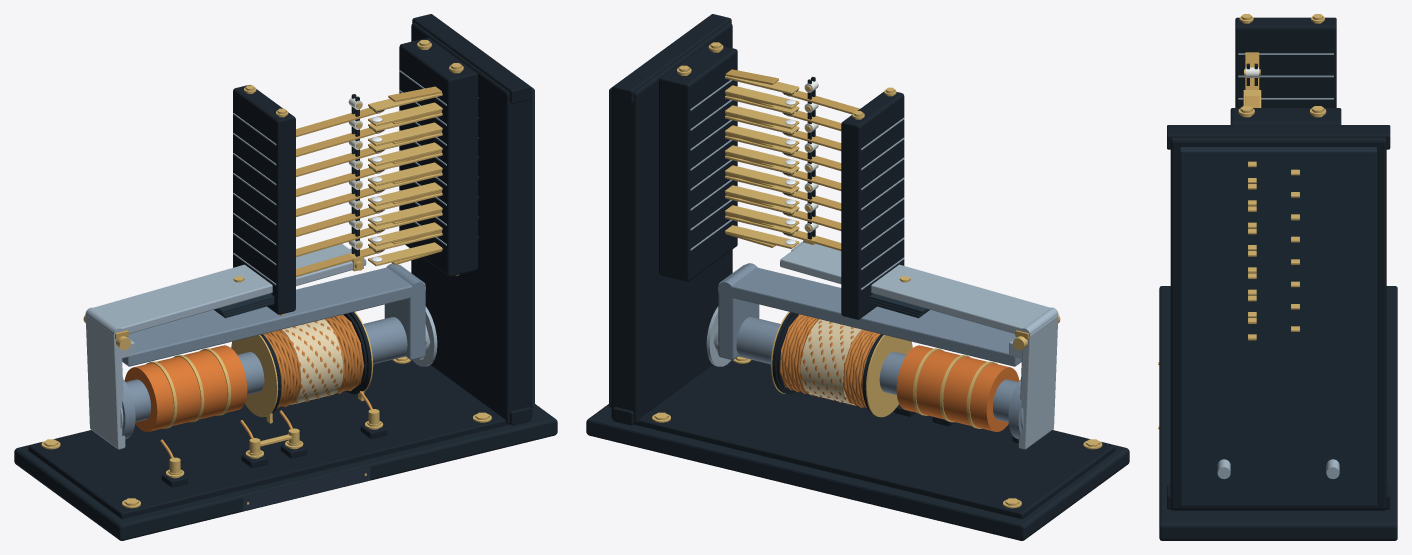
The model's file is JWXC-H340-picked.glb.
The picture shows the model from 3 angles, left to right: view 1: azimuth 30°, elevation 25°; view 2: azimuth 150°, elevation 25°; view 3: azimuth 270°, elevation 25°; orthographic projection. The views are drawn at different scales.
Visible parts, largest first — view 1: base (×6), contactBlock (×2), yoke (×2), armature (×2), coil (×3), copperSleeve, back (×8), common (×8), core; view 2: base (×5), contactBlock (×2), armature (×2), yoke (×2), coil (×3), copperSleeve, back (×8), core; view 3: base (×4), contactBlock (×2), common.
Part boxes in pixels (x1,y1,x2,y2): base (×6): [14, 14, 557, 540]; contactBlock (×2): [233, 38, 477, 314]; yoke (×2): [122, 264, 425, 366]; armature (×2): [85, 244, 352, 449]; coil (×3): [231, 314, 364, 417]; copperSleeve: [124, 345, 247, 431]; back (×8): [368, 102, 442, 266]; common (×8): [296, 107, 383, 276]; core: [125, 317, 407, 422]; base (×5): [586, 14, 1129, 540]; contactBlock (×2): [659, 42, 904, 319]; armature (×2): [780, 242, 1058, 449]; yoke (×2): [718, 264, 1021, 366]; coil (×3): [780, 314, 912, 417]; copperSleeve: [896, 345, 1019, 431]; back (×8): [725, 85, 799, 248]; core: [736, 317, 1018, 422]; base (×4): [1159, 125, 1397, 540]; contactBlock (×2): [1230, 17, 1341, 124]; common: [1245, 52, 1259, 89].
Bounding box in the file's own units: 6.05 × 4.73 × 2.55.
